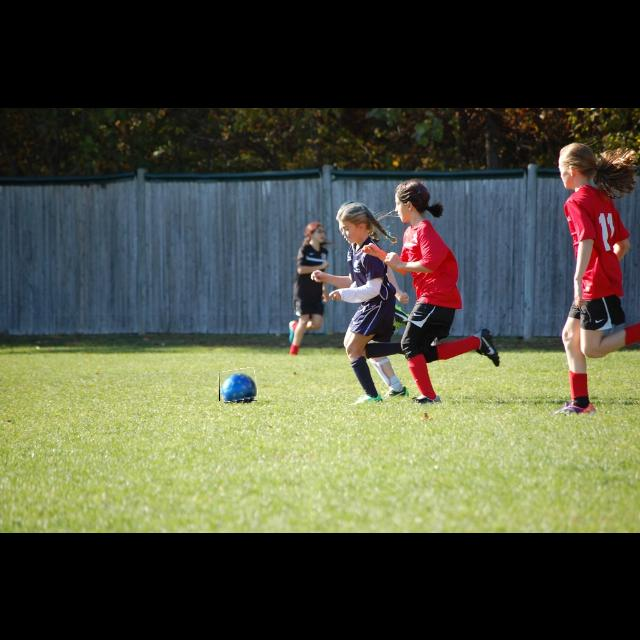Football: (219, 369, 257, 401)
